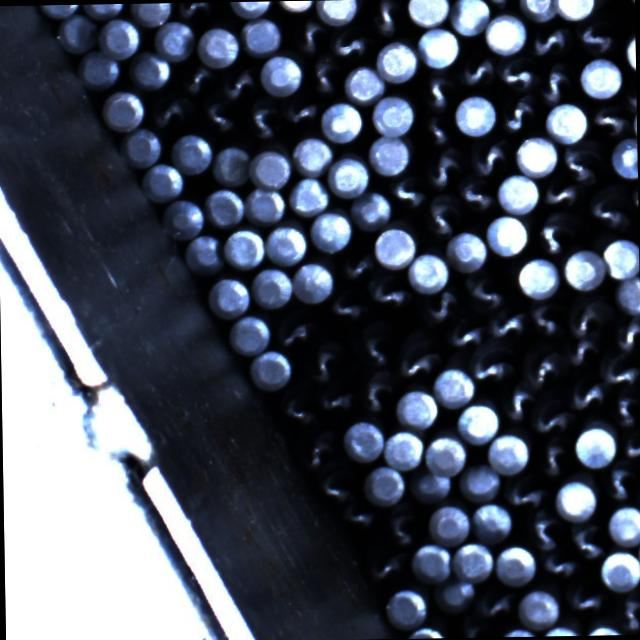tool: (372, 225, 417, 268), (574, 422, 616, 468), (258, 52, 302, 95), (516, 255, 560, 298), (562, 247, 606, 290), (495, 542, 538, 586), (384, 586, 427, 630), (486, 431, 529, 474), (196, 24, 239, 67), (223, 227, 266, 270), (264, 221, 307, 264), (553, 478, 597, 520), (328, 152, 370, 196), (457, 400, 501, 442), (483, 11, 526, 53), (250, 265, 292, 308), (104, 87, 146, 130), (292, 259, 334, 302), (321, 98, 364, 140), (160, 196, 203, 238), (517, 586, 560, 628), (364, 463, 406, 505), (454, 94, 496, 136), (544, 100, 586, 142), (310, 210, 352, 252), (498, 170, 540, 212), (340, 420, 382, 462), (97, 16, 139, 58), (426, 432, 468, 474), (376, 38, 418, 80), (486, 214, 528, 256), (372, 93, 414, 135), (445, 230, 487, 272), (170, 131, 212, 173), (418, 27, 461, 68), (514, 135, 557, 176), (599, 547, 640, 590), (128, 50, 172, 90), (210, 274, 251, 316), (452, 541, 494, 582), (396, 388, 438, 429), (230, 312, 272, 353), (410, 542, 452, 583), (429, 504, 472, 544), (249, 148, 292, 188), (251, 350, 293, 390), (407, 252, 449, 292), (580, 58, 622, 98), (78, 50, 120, 90), (120, 126, 162, 166), (434, 366, 476, 406), (143, 160, 185, 200), (292, 134, 334, 174), (369, 136, 411, 176), (289, 175, 331, 215), (472, 500, 514, 540), (385, 428, 425, 469), (203, 186, 244, 226), (241, 16, 282, 56), (458, 463, 500, 502), (155, 21, 195, 61), (59, 14, 99, 54), (350, 190, 390, 230), (343, 62, 384, 101), (187, 231, 226, 272), (244, 186, 286, 224), (212, 145, 250, 186), (602, 237, 639, 279), (434, 578, 476, 614), (606, 503, 640, 545), (413, 466, 452, 502), (449, 0, 489, 34), (611, 138, 637, 180), (408, 0, 450, 25), (130, 2, 173, 26), (316, 0, 358, 23), (617, 274, 640, 314), (554, 0, 594, 19), (516, 0, 554, 20), (228, 1, 272, 16), (404, 624, 448, 638), (582, 622, 626, 636), (84, 4, 126, 18), (38, 4, 82, 17), (538, 624, 581, 636), (625, 28, 636, 72), (276, 0, 315, 12), (496, 626, 538, 637)
tool_b: (396, 329, 444, 382), (534, 208, 582, 256), (584, 182, 630, 232), (560, 140, 606, 186), (300, 337, 346, 383), (354, 320, 396, 370), (519, 343, 564, 388), (565, 293, 609, 338), (528, 393, 572, 438), (381, 502, 424, 548), (470, 342, 516, 384), (358, 368, 398, 416), (316, 460, 358, 505), (468, 137, 512, 179), (298, 428, 340, 472), (424, 146, 466, 190), (272, 308, 318, 348), (422, 191, 461, 238), (367, 270, 411, 311), (564, 372, 608, 413), (362, 544, 407, 584), (245, 95, 284, 141), (500, 92, 540, 136), (462, 271, 506, 311), (534, 436, 574, 480), (150, 90, 196, 128), (568, 518, 608, 561), (198, 93, 238, 136), (278, 382, 315, 428), (498, 382, 537, 425), (562, 578, 606, 616), (538, 61, 575, 106), (357, 0, 404, 35), (524, 508, 562, 551), (527, 21, 571, 58), (504, 473, 548, 510), (306, 53, 342, 98), (387, 173, 428, 212), (526, 298, 565, 339), (574, 17, 616, 55), (442, 314, 484, 352), (328, 24, 371, 61), (602, 462, 638, 506), (598, 351, 639, 389), (315, 377, 356, 415), (494, 54, 536, 91), (336, 495, 378, 532), (456, 176, 495, 215), (454, 52, 494, 90), (588, 102, 628, 140), (475, 585, 517, 621), (419, 288, 458, 326), (219, 66, 259, 103), (328, 285, 368, 322), (420, 72, 456, 113), (486, 307, 526, 343), (290, 15, 326, 54), (562, 334, 602, 368), (539, 177, 579, 210), (177, 61, 215, 95), (282, 94, 320, 128), (538, 548, 578, 580), (610, 387, 640, 428), (338, 250, 374, 284), (420, 112, 454, 148), (615, 587, 640, 632), (614, 315, 640, 354), (458, 615, 492, 638), (173, 2, 216, 20), (618, 428, 640, 463), (622, 84, 636, 112)
